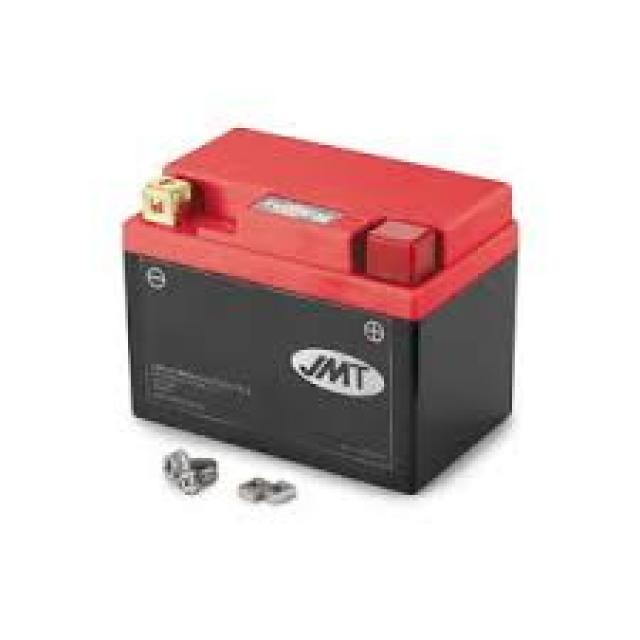non-organic waste: (122, 125, 516, 499)
